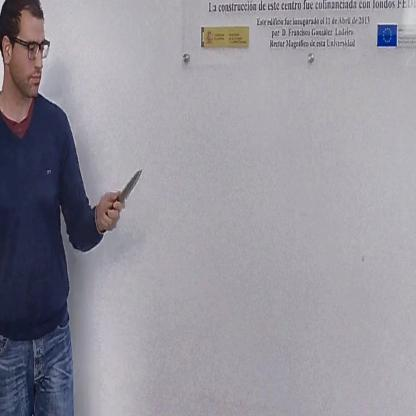knife: (102, 162, 146, 234)
